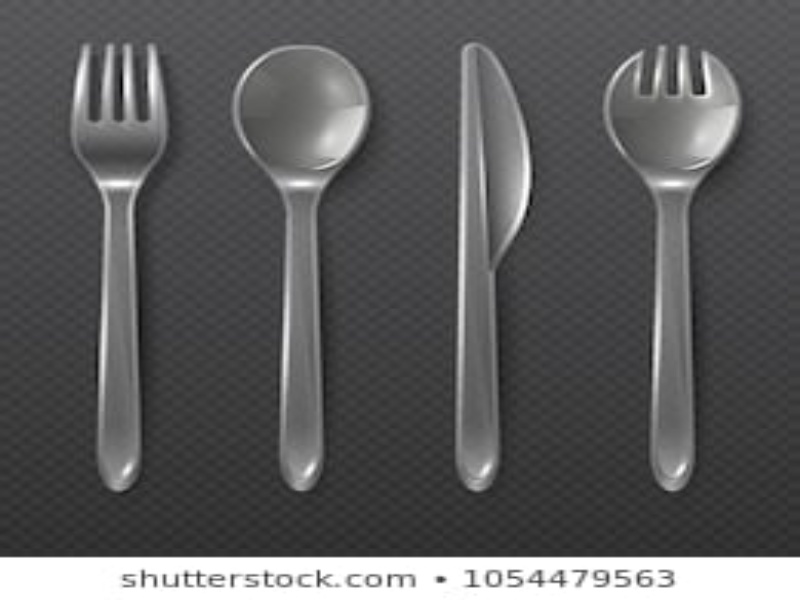plastic-silverware: (600, 40, 748, 493), (231, 41, 376, 494), (65, 37, 172, 493), (449, 32, 536, 492)
